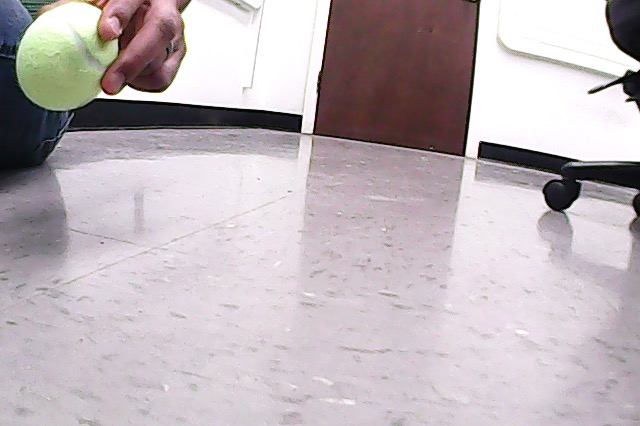ball: (17, 3, 120, 111)
